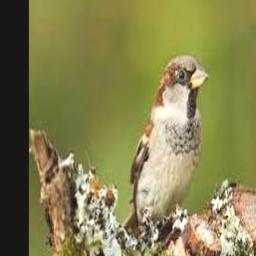Sparrow: (122, 56, 209, 239)
